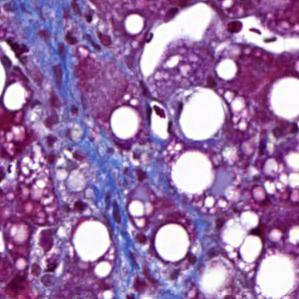inflammation: (62, 25, 113, 56), (57, 197, 96, 220), (148, 99, 169, 127)
